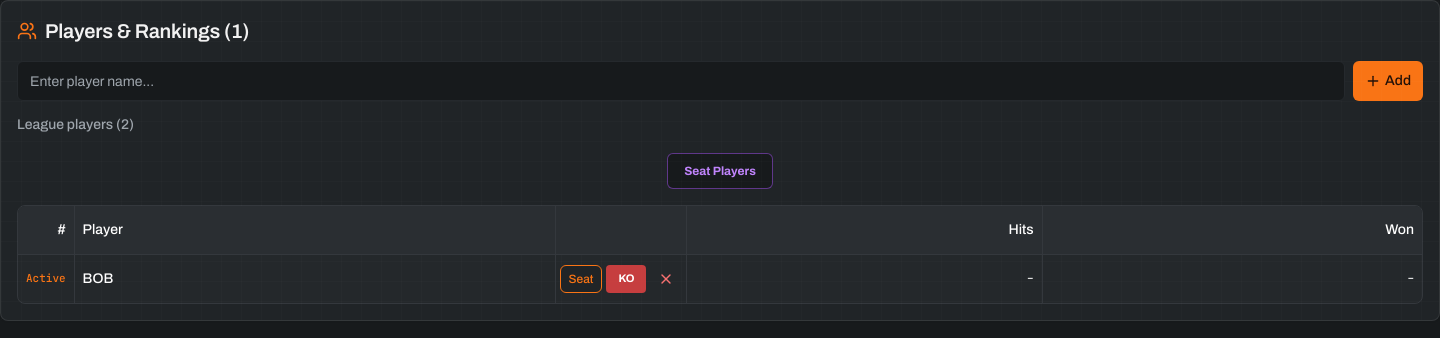
Test: the names Add Player offers › suggests the league spelling as the director types
The width and height of the screenshot is (1440, 338).
Type "dav" into the field with placeholder "Enter player name..." at (681, 81), box 17,61 -> 1345,101
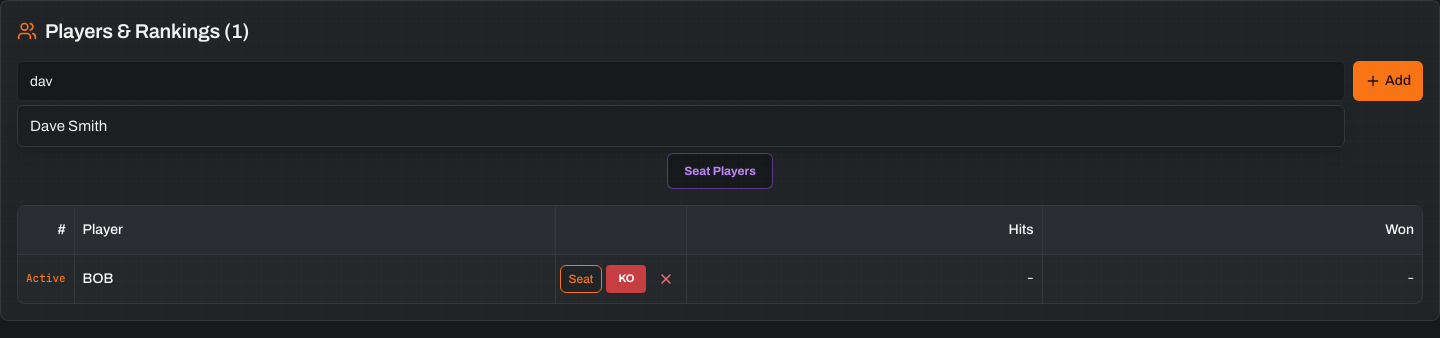
Check: the button "Dave Smith" is shown, box 18,106 -> 1344,146
